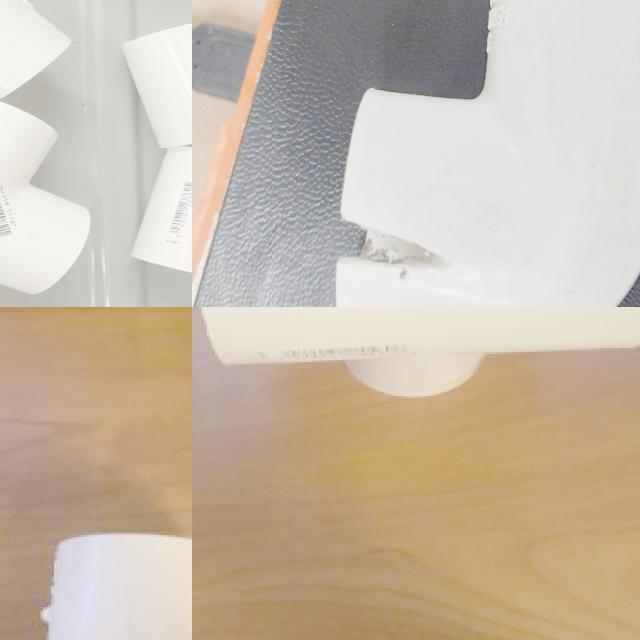Defective: (510, 227, 535, 307)
L Joint: (273, 0, 604, 307), (0, 103, 92, 297), (40, 533, 192, 640)
T Joint: (199, 307, 640, 400)
